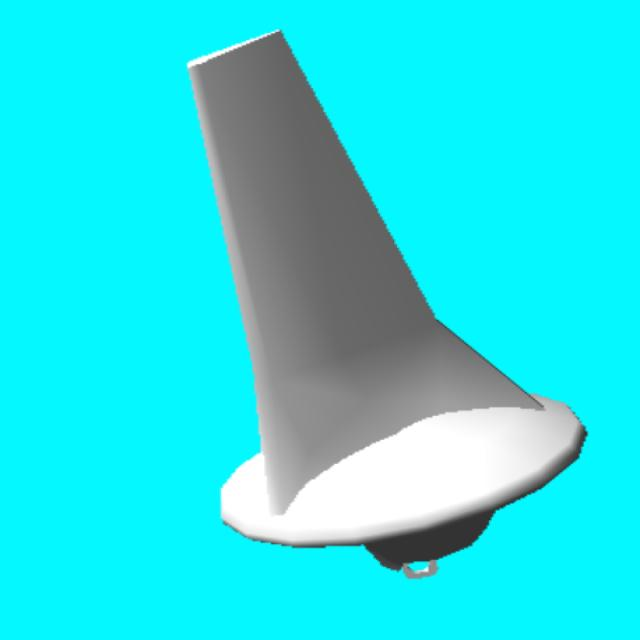WhiteBuoy: (186, 31, 588, 582)
